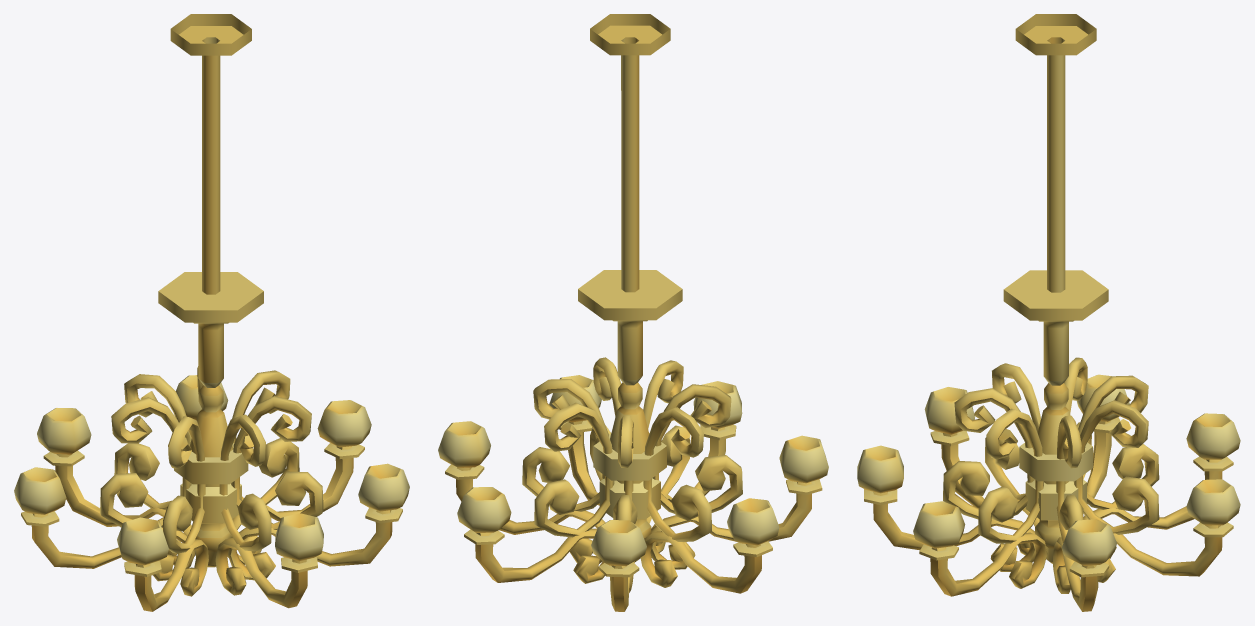
File: squidgame_light_chandelier.fbx
The picture shows the model from 3 angles, left to right: view 1: azimuth 30°, elevation 25°; view 2: azimuth 150°, elevation 25°; view 3: azimuth 270°, elevation 25°; orthographic projection.
Parts seen in each view (by area): view 1: squidgame_light_chandelier, squidgame_light_chandelier_light; view 2: squidgame_light_chandelier, squidgame_light_chandelier_light; view 3: squidgame_light_chandelier, squidgame_light_chandelier_light.
Boxes of the visible parts, box(x1,y1,x2,y2) form: squidgame_light_chandelier: box(21, 14, 402, 611); squidgame_light_chandelier_light: box(14, 375, 409, 565); squidgame_light_chandelier: box(445, 14, 822, 611); squidgame_light_chandelier_light: box(438, 375, 828, 565); squidgame_light_chandelier: box(864, 14, 1233, 611); squidgame_light_chandelier_light: box(857, 374, 1240, 565).
Size of the model in its own units: 2.18 by 3.32 by 2.13.
